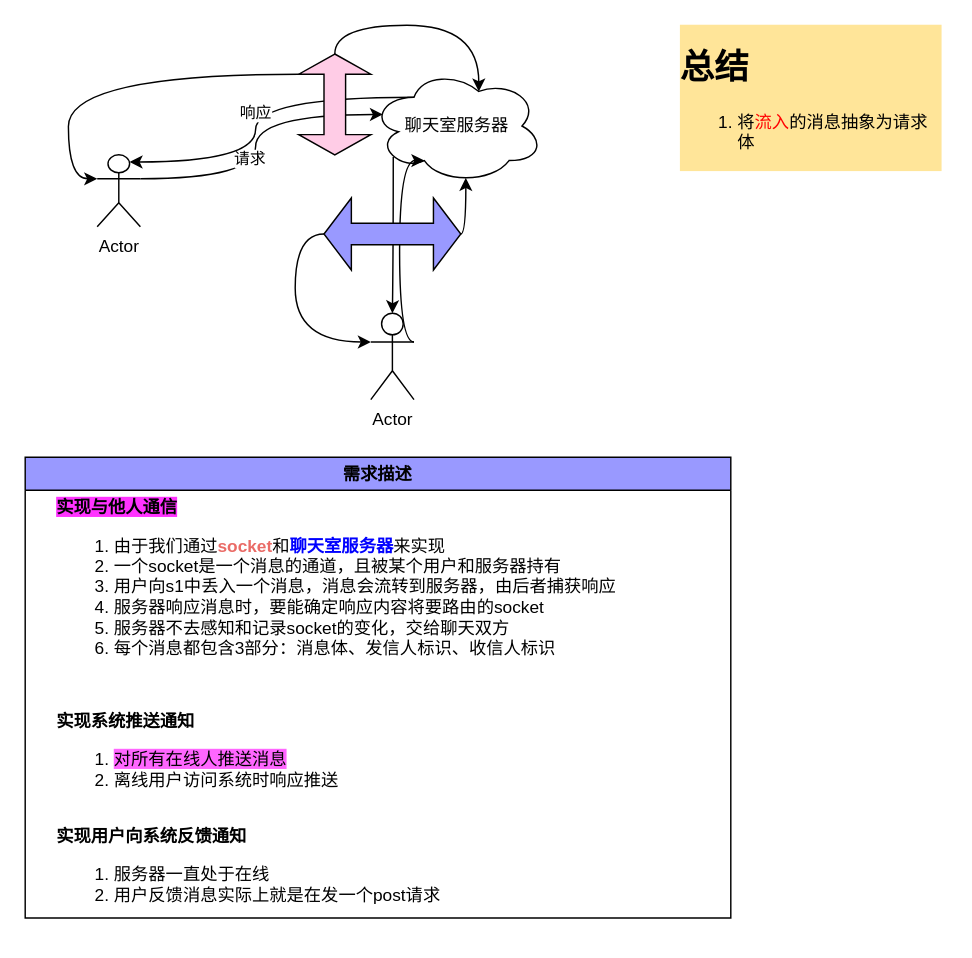
Some shapes in this 972 by 958 pixel diagram are drawn without their labels. The shapes that lost their labels are listed below. From the top down, each one's centre as x and y in pixels, then its label:
(334,104): s1
(392,233): s2
